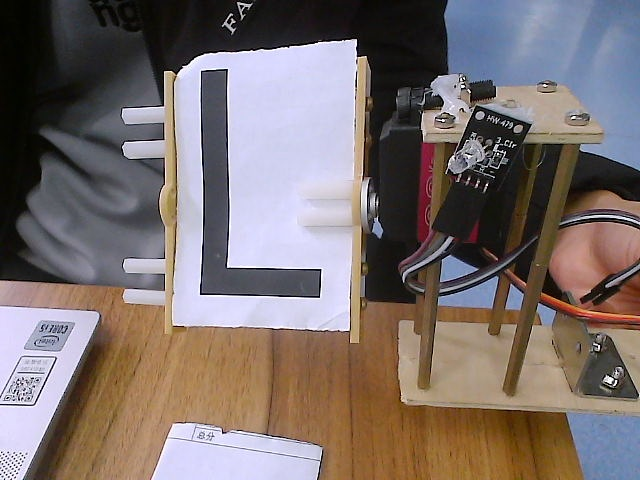L: (88, 21, 433, 379)
